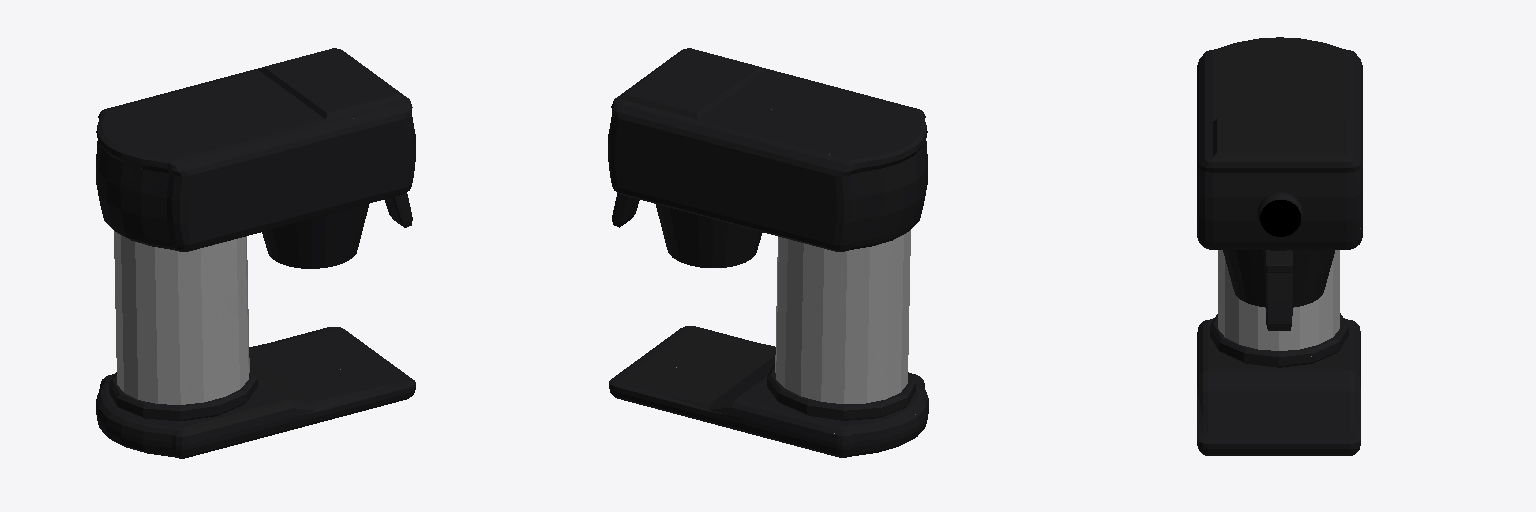
3 renders of one model, left to right at view 1: azimuth 30°, elevation 25°; view 2: azimuth 150°, elevation 25°; view 3: azimuth 270°, elevation 25°, orthographic.
Parts seen in each view (by area): view 1: CafeteraDos2:polySurface11; view 2: CafeteraDos2:polySurface11; view 3: CafeteraDos2:polySurface11.
Boxes of the visible parts, <box> form: CafeteraDos2:polySurface11: <box>96,48,415,458</box>; CafeteraDos2:polySurface11: <box>608,48,928,457</box>; CafeteraDos2:polySurface11: <box>1197,37,1362,455</box>.
Bounding box in the file's own units: 0.8702 × 0.8716 × 0.4149.
3 materials, 2 textured.